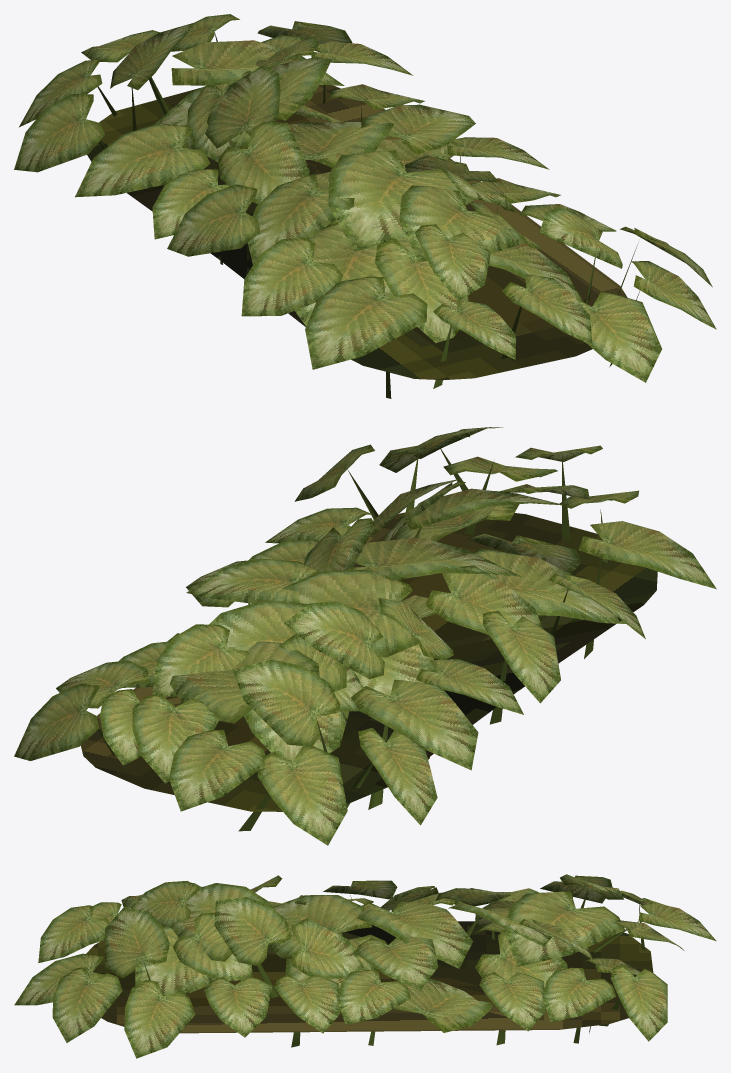
The model's file is Plants_1x2_A.FBX.
3 views of the same model, one above another, from view 1: azimuth 30°, elevation 25°; view 2: azimuth 150°, elevation 25°; view 3: azimuth 270°, elevation 25° (orthographic). The views are drawn at different scales.
Visible parts, largest first — view 1: Plants_1x2_A; view 2: Plants_1x2_A; view 3: Plants_1x2_A.
Boxes of the visible parts, box(x1,y1,x2,y2) form: Plants_1x2_A: box(14, 14, 716, 398); Plants_1x2_A: box(14, 427, 716, 845); Plants_1x2_A: box(14, 874, 716, 1058).
Bounding box in the file's own units: 1.15 × 0.462 × 2.2.
